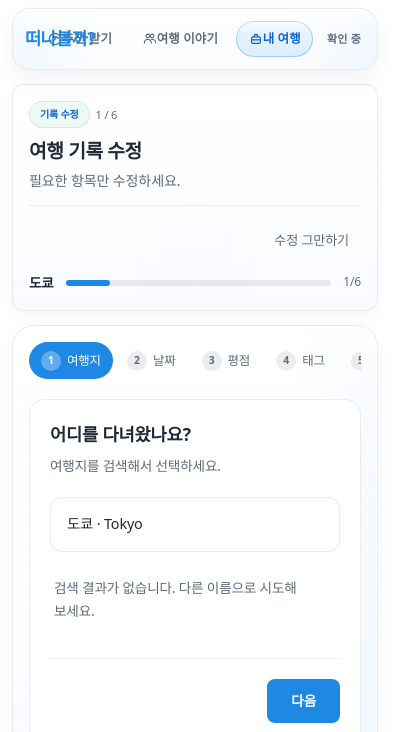
AccountHistoryCreateExperience destination autocomplete › selects a searched destination and advances to the next step
Replace the text in the field with test id "new-history-destination-search" with "taipei": (195, 525) x1=50 y1=497 x2=340 y2=552
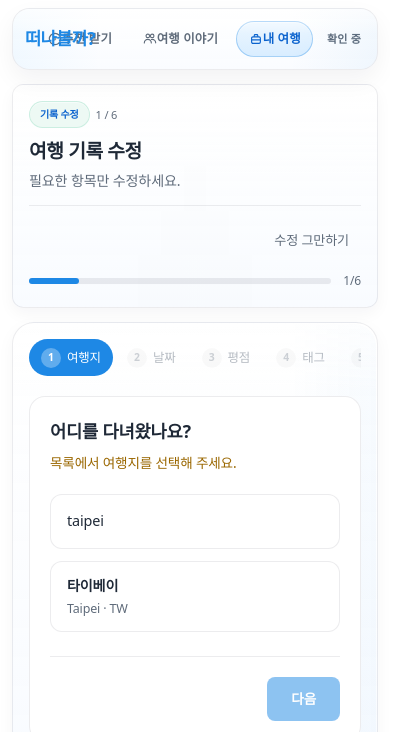
Click the button with test id "new-history-destination-result-0": (93, 586) x1=50 y1=561 x2=340 y2=632
Wait 130 ms
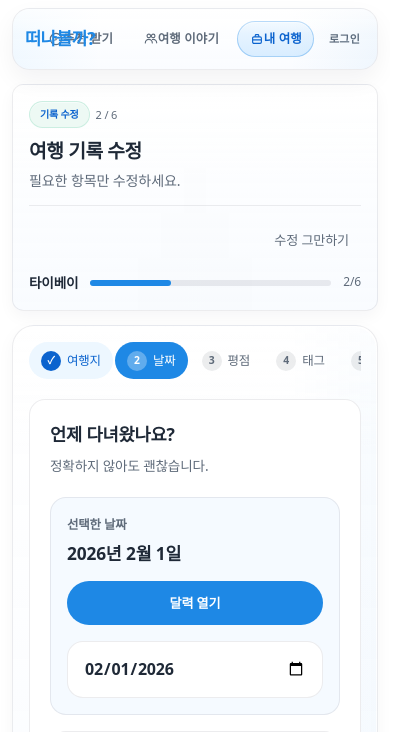
Expected: the heading with test id "new-history-step" reads "언제 다녀왔나요?", x1=50 y1=422 x2=175 y2=446
